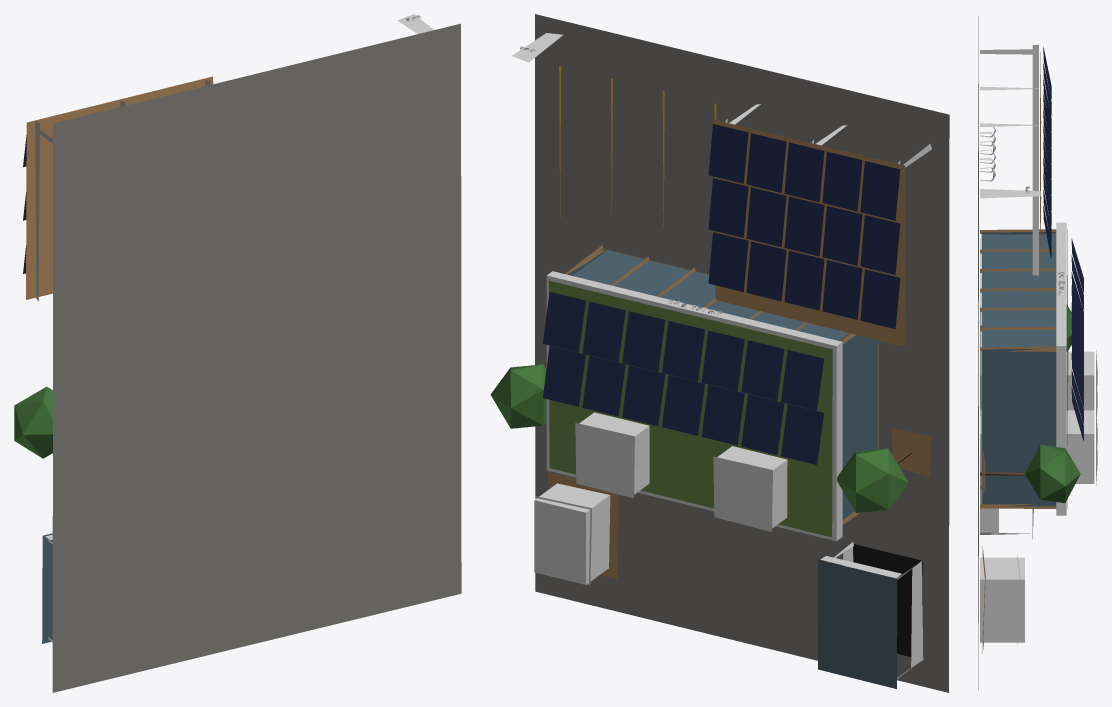
File: SolarpunkLocalHubUnderground01_LOD1.fbx
3 views of the same model, side by side, from view 1: azimuth 30°, elevation 25°; view 2: azimuth 150°, elevation 25°; view 3: azimuth 270°, elevation 25° (orthographic). The views are drawn at different scales.
Visible parts, largest first — view 1: SolarpunkLocalHubUnderground01_LOD1; view 2: SolarpunkLocalHubUnderground01_LOD1; view 3: SolarpunkLocalHubUnderground01_LOD1.
Boxes of the visible parts, x1,y1,x2,y2 form: SolarpunkLocalHubUnderground01_LOD1: (14, 14, 461, 692); SolarpunkLocalHubUnderground01_LOD1: (490, 14, 949, 692); SolarpunkLocalHubUnderground01_LOD1: (978, 16, 1097, 690).
Size of the model in its own units: 2400 by 3200 by 690.
Materials: 1 (1 with a texture image).
